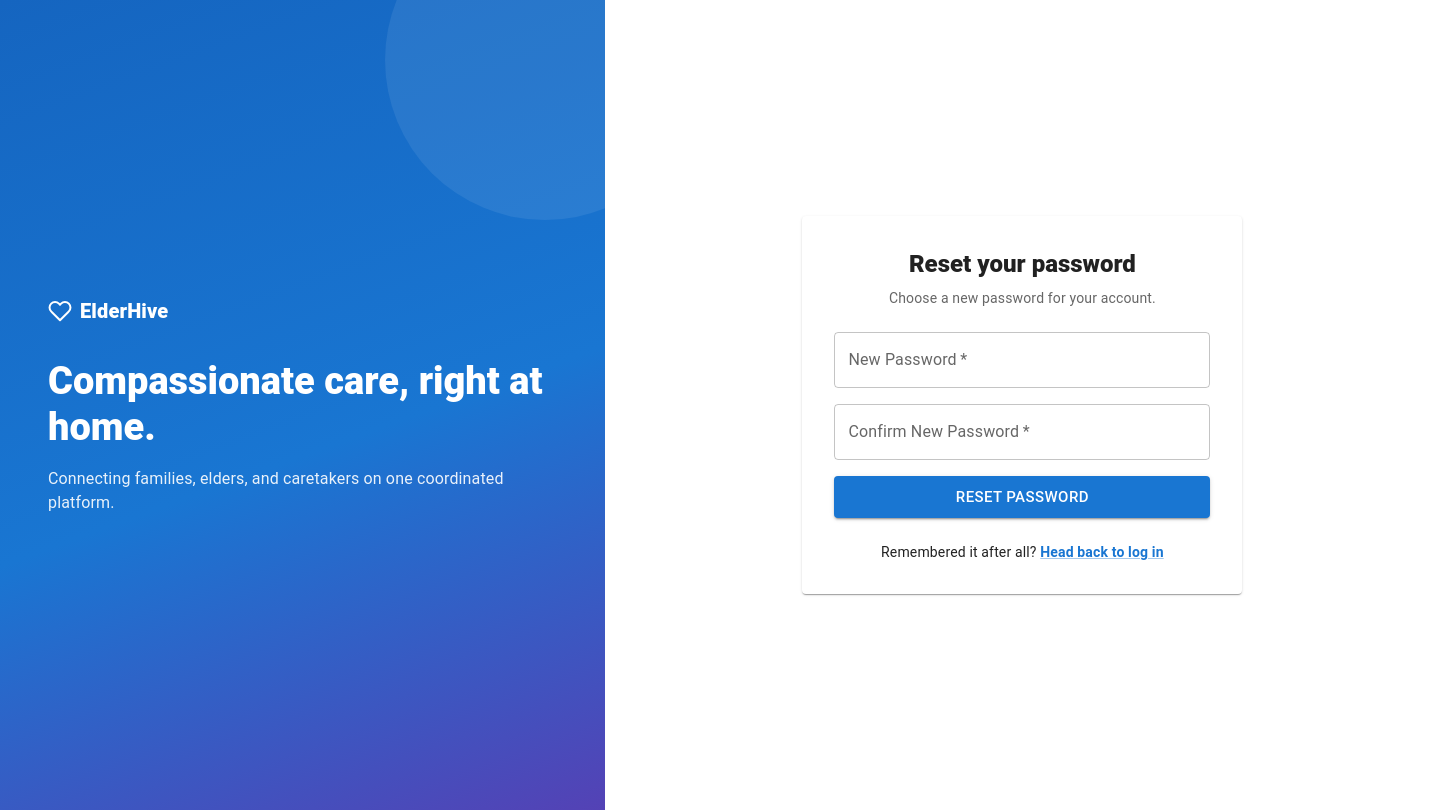
Test case: ResetPassword.page › blocks submission when the new password is under 8 characters
In the password field labelled "New Password *": (1022, 360) top-left (834, 332), bottom-right (1210, 388), type "short"
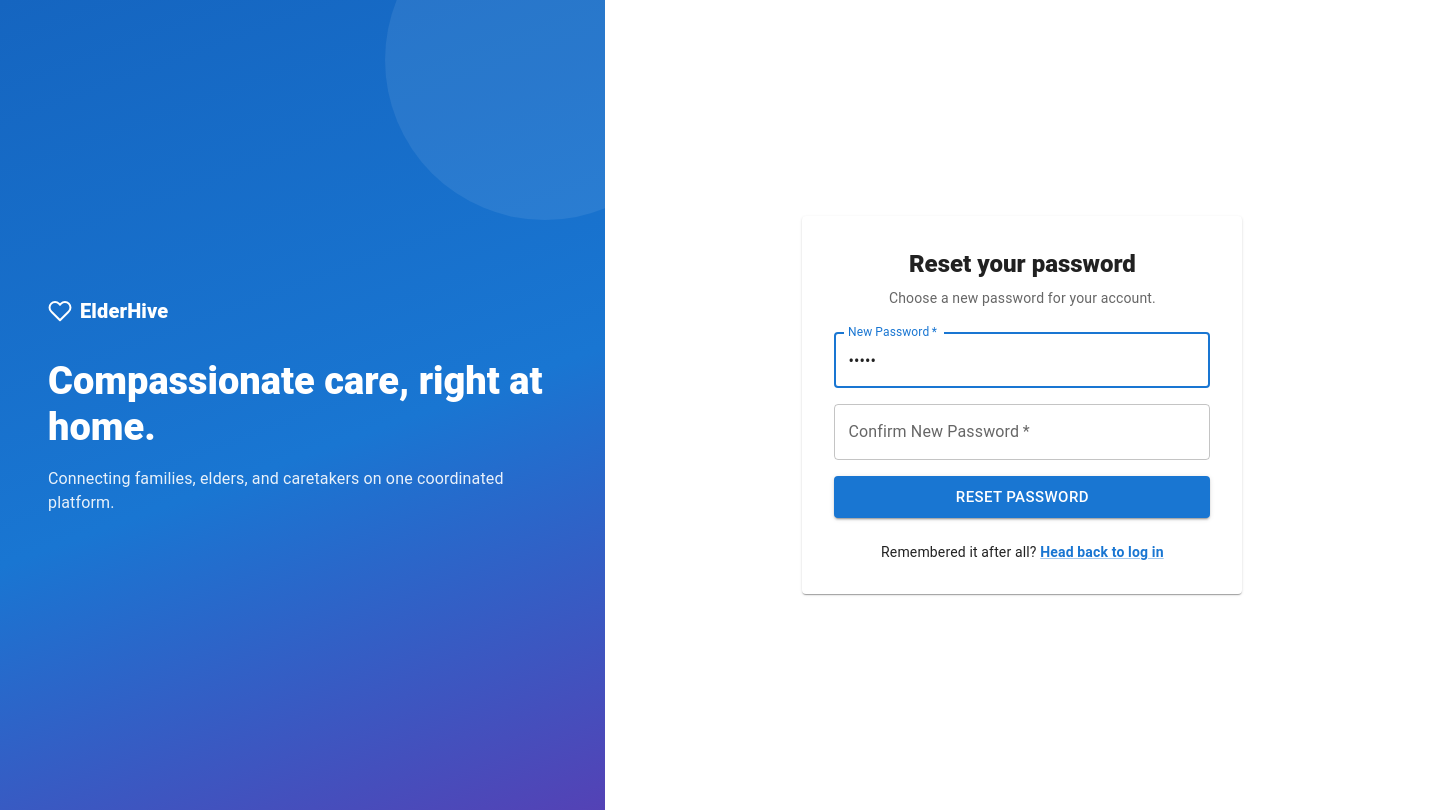
In the password field labelled "Confirm New Password *": (1022, 432) top-left (834, 404), bottom-right (1210, 460), type "short"
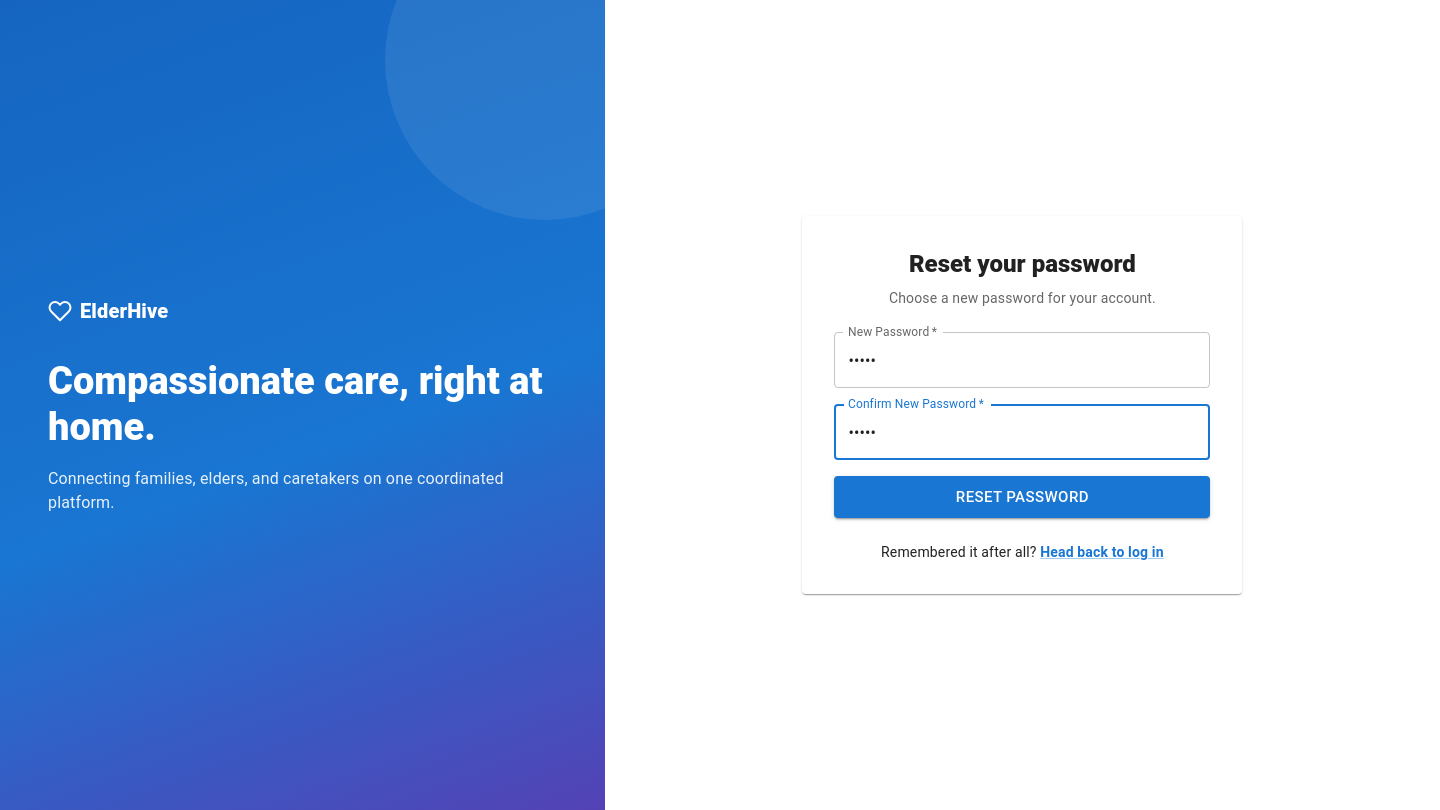
Click the button "Reset Password": (1022, 497) top-left (834, 476), bottom-right (1210, 518)
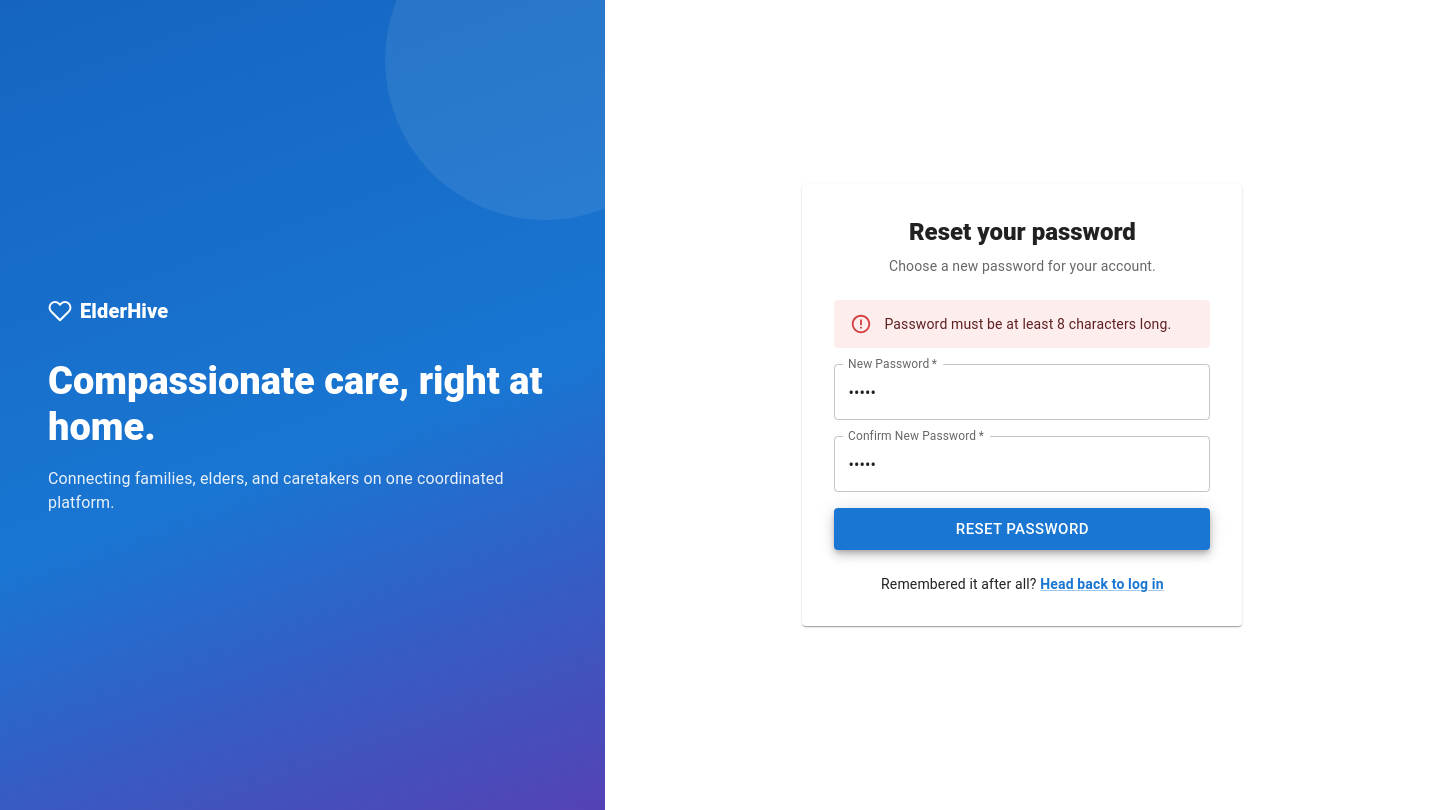
Expected: the text "Password must be at least 8 characters long." is shown, top-left (884, 316), bottom-right (1171, 332)
